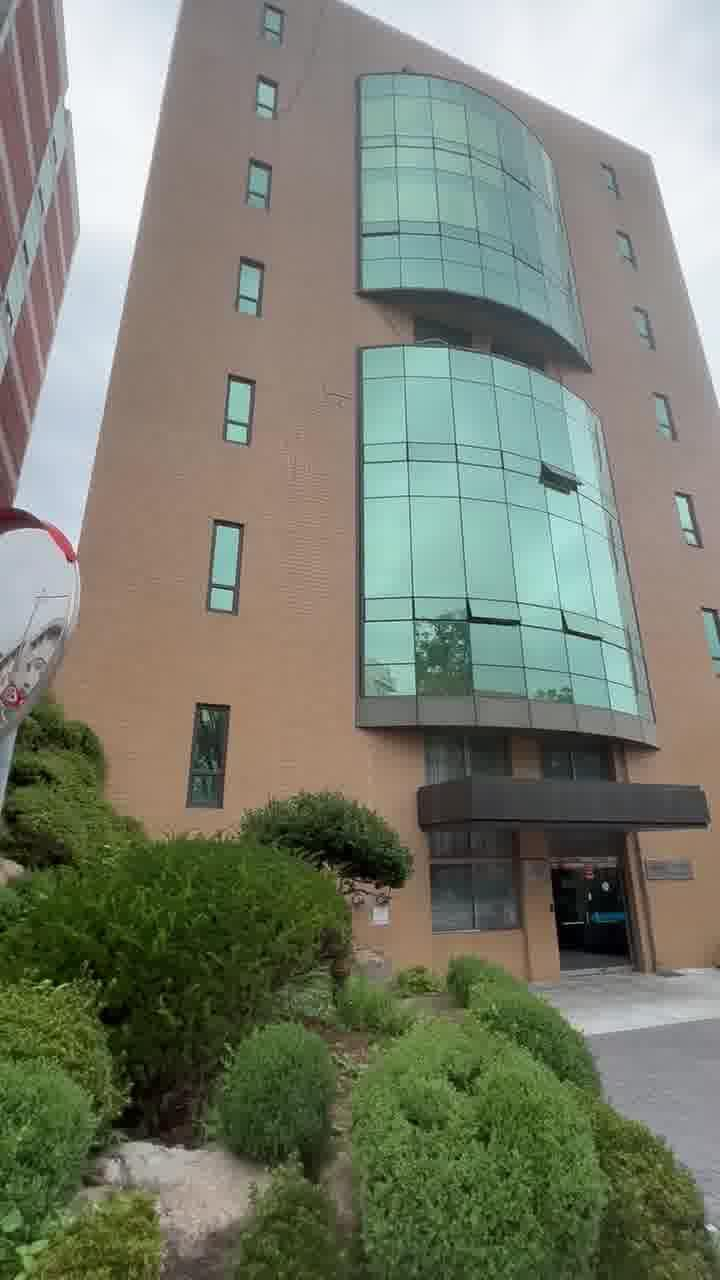building: (110, 30, 720, 758)
